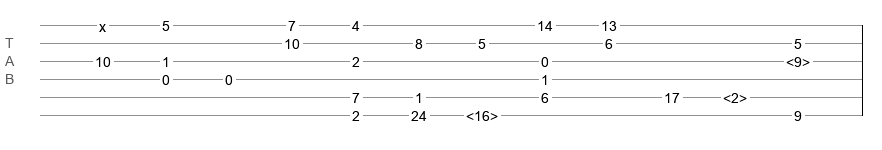0: (162, 72, 170, 82), (225, 72, 233, 82), (541, 54, 549, 64)
1: (162, 54, 170, 64), (415, 90, 423, 100), (541, 72, 549, 82)
10: (95, 54, 111, 64), (284, 36, 300, 46)
13: (601, 18, 617, 28)
14: (537, 18, 553, 28)
17: (664, 90, 680, 100)
2: (352, 108, 360, 118), (352, 54, 360, 64)
24: (411, 108, 427, 118)
4: (352, 18, 360, 28)
5: (162, 18, 170, 28), (478, 36, 486, 46), (794, 36, 802, 46)
6: (541, 90, 549, 100), (605, 36, 613, 46)
7: (288, 18, 296, 28), (352, 90, 360, 100)
8: (415, 36, 423, 46)
9: (794, 108, 802, 118)
harmonic: (466, 108, 498, 118), (723, 90, 747, 100), (786, 54, 810, 64)
x: (99, 19, 106, 27)
